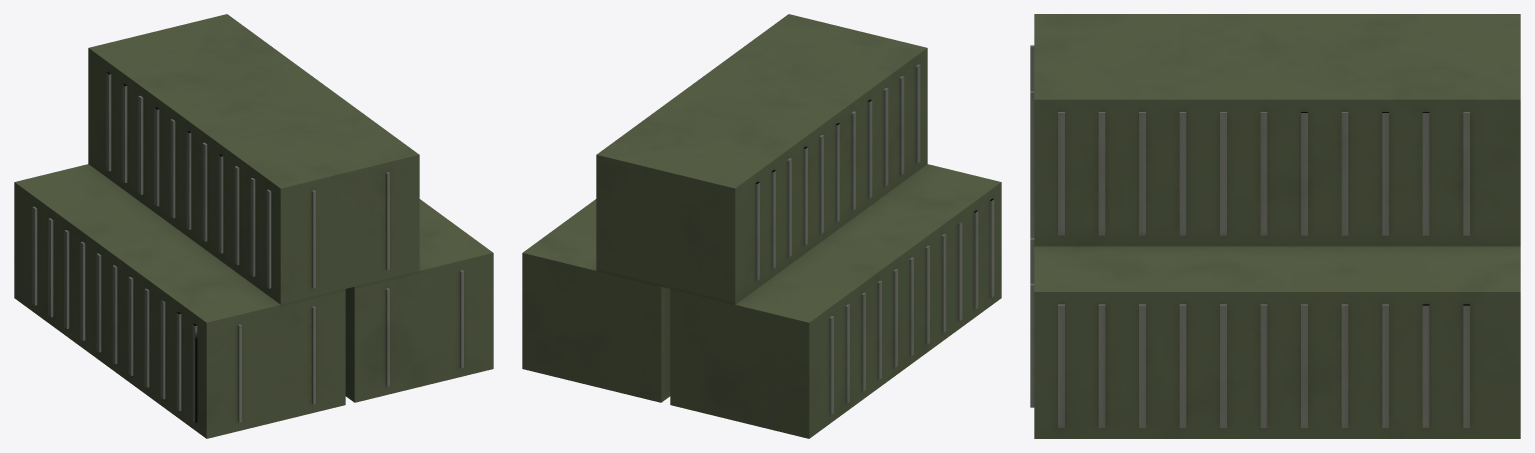
The model's file is military-containers.fbx.
3 views of the same model, side by side, from view 1: azimuth 30°, elevation 25°; view 2: azimuth 150°, elevation 25°; view 3: azimuth 270°, elevation 25° (orthographic). The views are drawn at different scales.
Visible parts, largest first — view 1: military-containers; view 2: military-containers; view 3: military-containers.
Boxes of the visible parts, x1=… form: military-containers: x1=14, y1=14, x2=493, y2=438; military-containers: x1=522, y1=14, x2=1001, y2=438; military-containers: x1=1030, y1=14, x2=1520, y2=438.
Size of the model in its own units: 31.45 by 24 by 36.3.
1 material, 1 textured.
